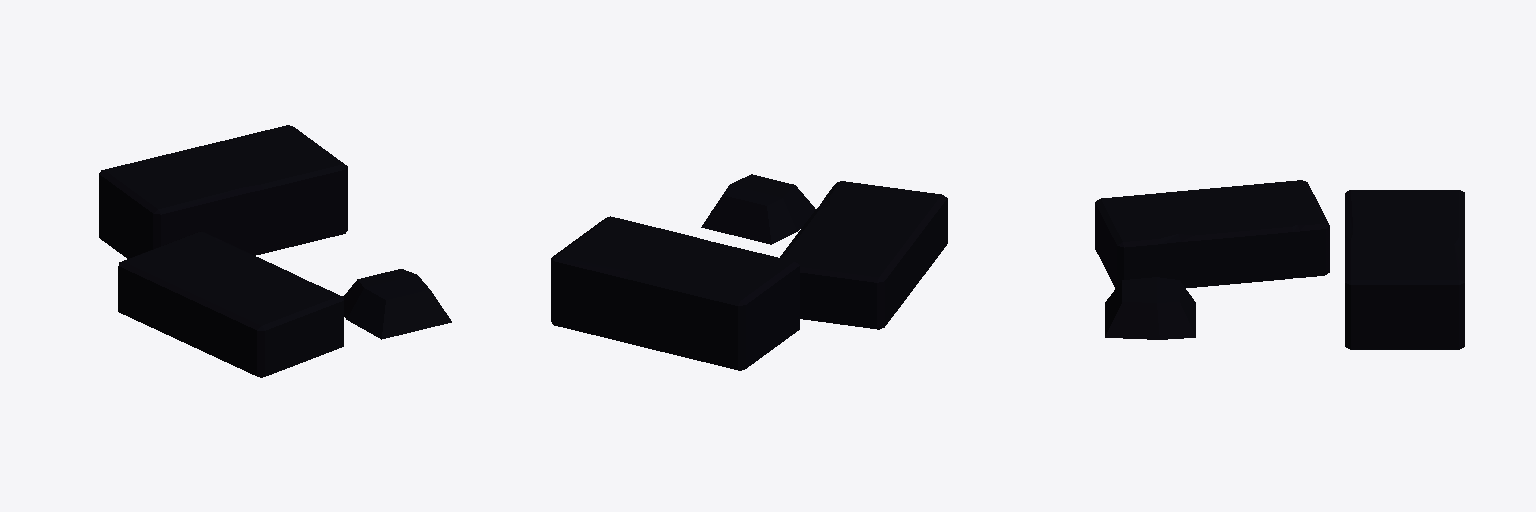
File: Floor_BricksSeparate.obj
3 renders of one model, left to right at view 1: azimuth 30°, elevation 25°; view 2: azimuth 150°, elevation 25°; view 3: azimuth 270°, elevation 25°, orthographic.
Visible parts, largest first — view 1: Floor_BricksSeparate_Cube.032; view 2: Floor_BricksSeparate_Cube.032; view 3: Floor_BricksSeparate_Cube.032.
Boxes of the visible parts, box(x1,y1,x2,y2) form: Floor_BricksSeparate_Cube.032: box(99, 125, 451, 377); Floor_BricksSeparate_Cube.032: box(551, 174, 947, 370); Floor_BricksSeparate_Cube.032: box(1095, 180, 1464, 349).
Bounding box in the file's own units: 0.9509 × 0.2561 × 1.2.